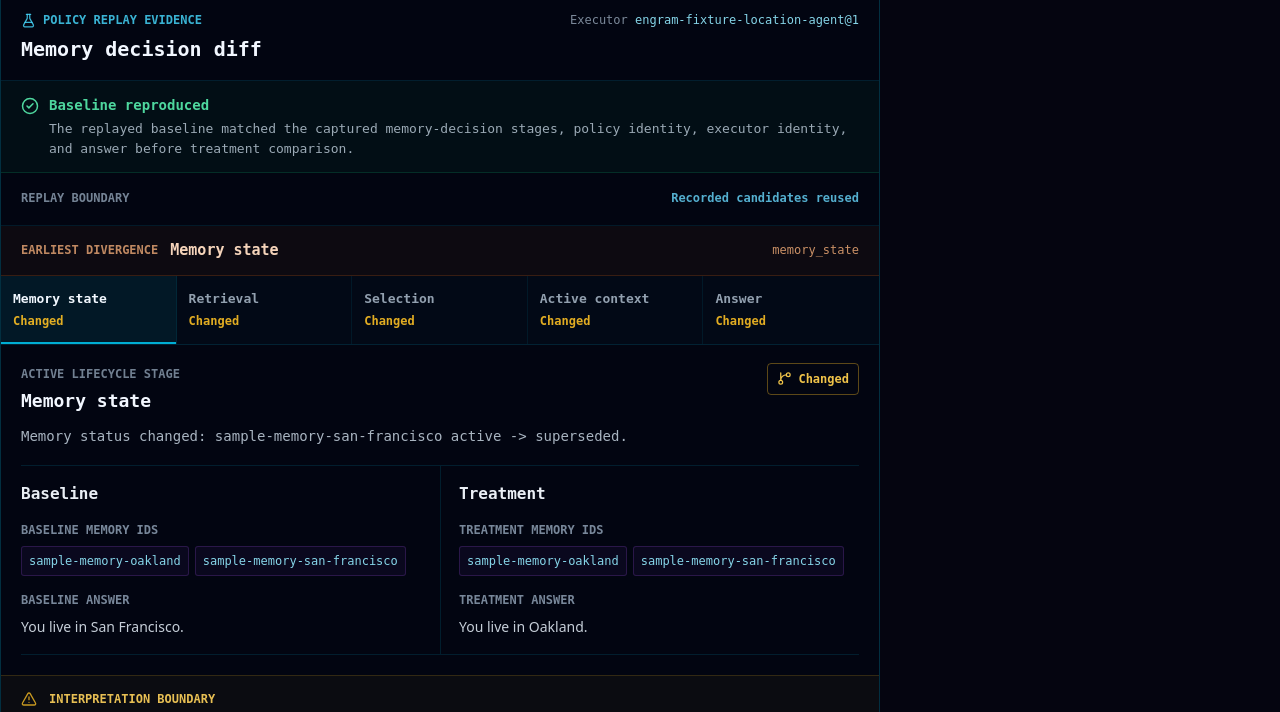
Test: CausalMemoryDiff › names the earliest divergence and compares baseline and treatment evidence
Expected: the element labelled "Earliest divergence" shows "Memory state", [170,241,279,259]
Expected: the element named "Baseline result" shows "You live in San Francisco.", [21,616,184,636]
Click the heading "Interpretation boundary" at (118,699), box [21,691,215,707]
(page scrolled)
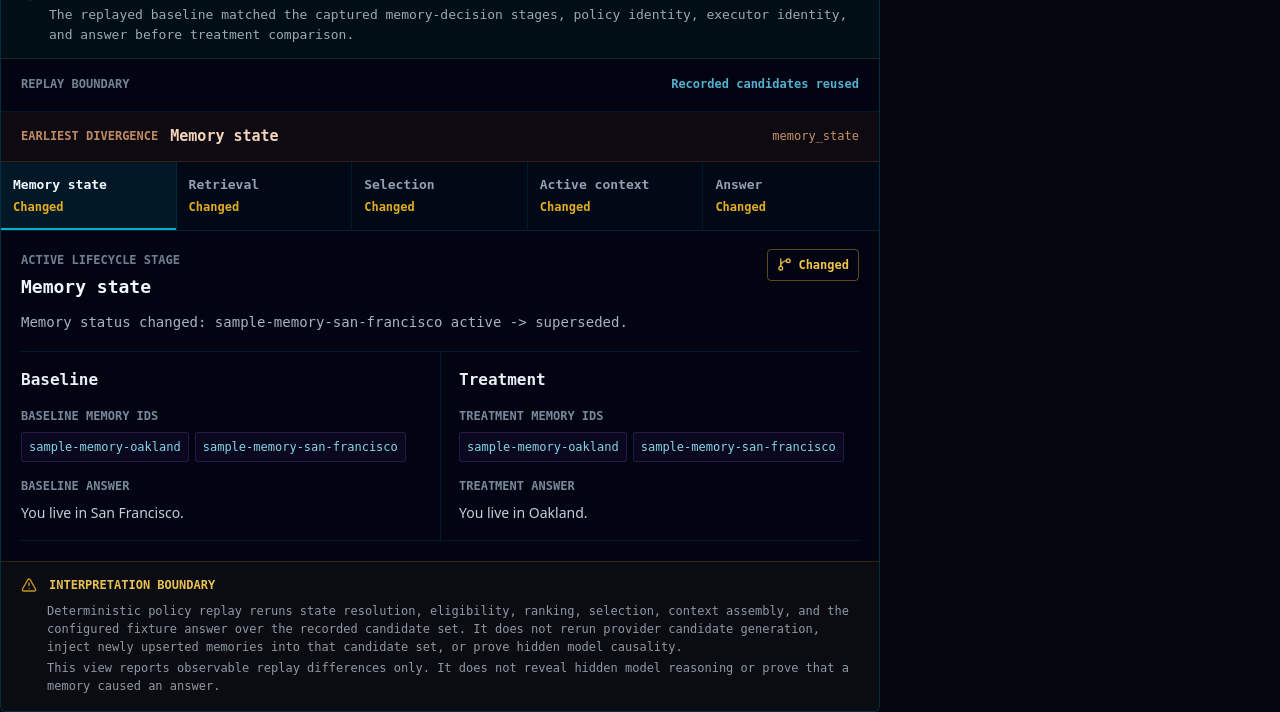
Expected: the text "does not reveal hidden model reasoning or prove" is shown, [47,661,849,693]
